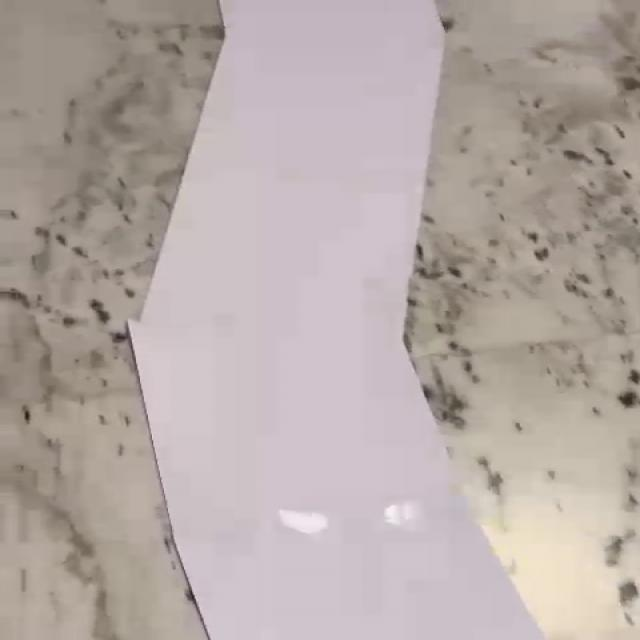road: (129, 0, 544, 640)
